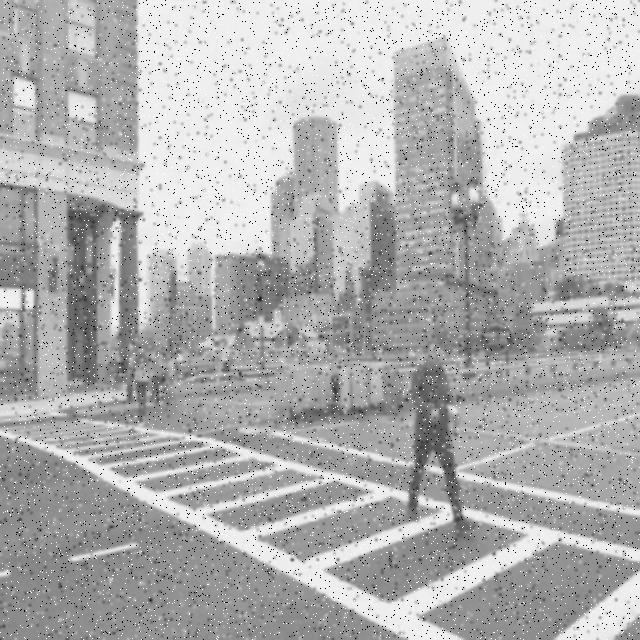Pedestrian crosswalk: (2, 409, 640, 640)
